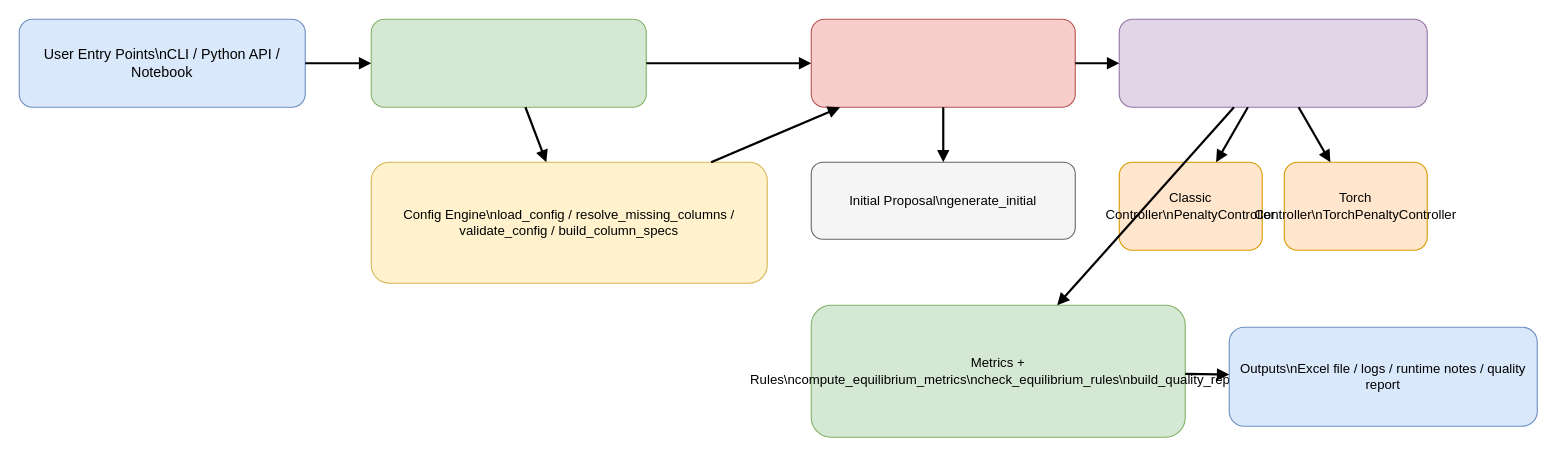
The diagram is 1557 pixels wide and 457 high, and some of its shapes have lost their labels. Here are the shapes that lost their labels. From the top down, the centre of each, then its label:
the point at 508,62: VorongenSynthesizer\n(run orchestration)
the point at 942,62: Generation Loop\ngenerate_until_valid
the point at 1272,62: Optimizer\nproposal + acceptance batches
